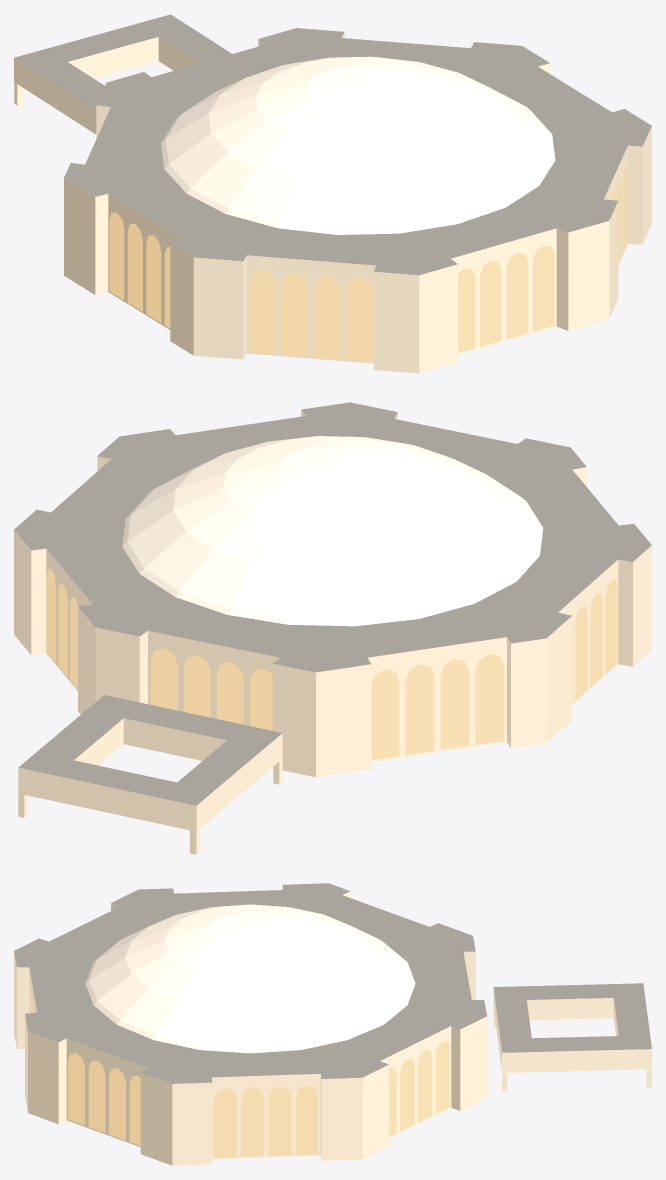
File: convention_centre_far.glb
The picture shows the model from 3 angles, top to bottom: view 1: azimuth 30°, elevation 25°; view 2: azimuth 150°, elevation 25°; view 3: azimuth 270°, elevation 25°; orthographic projection. The views are drawn at different scales.
Visible parts, largest first — view 1: m_jcc_dome, m_jcc_roof_ring, m_jcc_plain, m_jcc_glass; view 2: m_jcc_roof_ring, m_jcc_dome, m_jcc_plain, m_jcc_glass; view 3: m_jcc_roof_ring, m_jcc_dome, m_jcc_plain, m_jcc_glass.
Part boxes in pixels (box(x1,y1,x2,y2)): m_jcc_dome: box(161, 56, 555, 234); m_jcc_roof_ring: box(14, 14, 651, 275); m_jcc_plain: box(14, 32, 651, 373); m_jcc_glass: box(109, 165, 627, 361); m_jcc_roof_ring: box(14, 402, 651, 805); m_jcc_dome: box(122, 436, 543, 626); m_jcc_plain: box(14, 410, 651, 854); m_jcc_glass: box(46, 569, 617, 760); m_jcc_roof_ring: box(14, 883, 651, 1083); m_jcc_dome: box(85, 904, 415, 1053); m_jcc_plain: box(14, 889, 651, 1165); m_jcc_glass: box(29, 983, 450, 1157).
Bounding box in the file's own units: 95.77 × 30.8 × 129.
